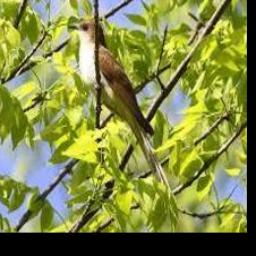Cuckoo: (68, 18, 172, 195)
